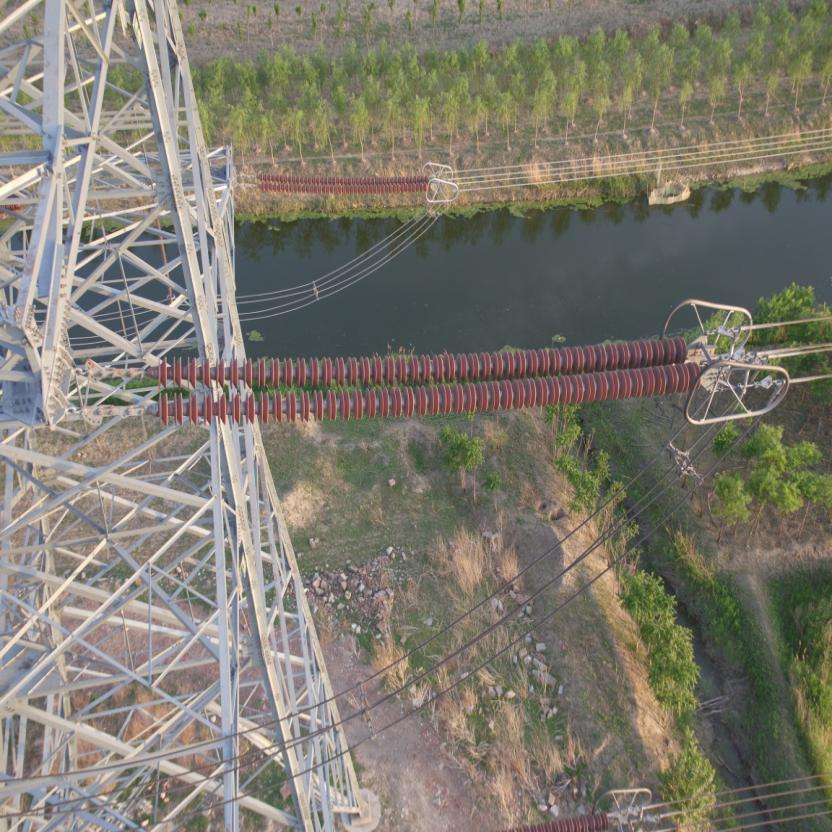insulator: (118, 330, 706, 430), (247, 168, 432, 194)
